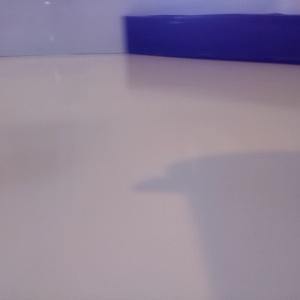zone: (123, 13, 300, 64)
